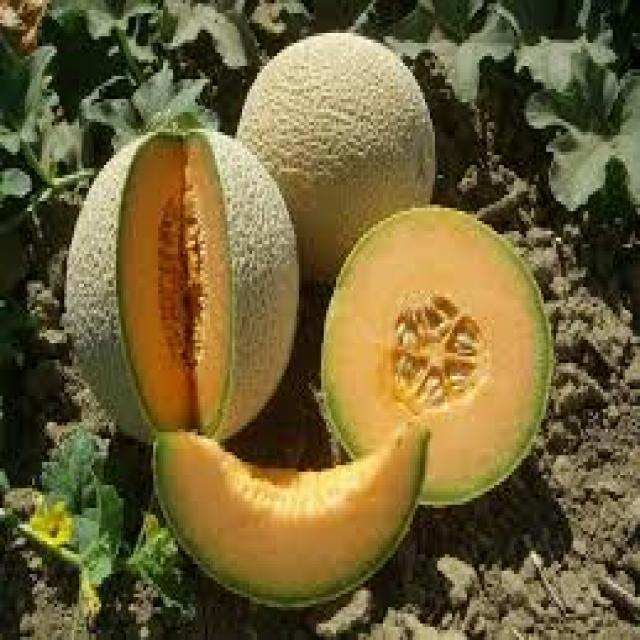Hami Melon: (69, 127, 298, 447), (319, 209, 552, 505), (237, 32, 437, 286), (155, 429, 428, 607)
